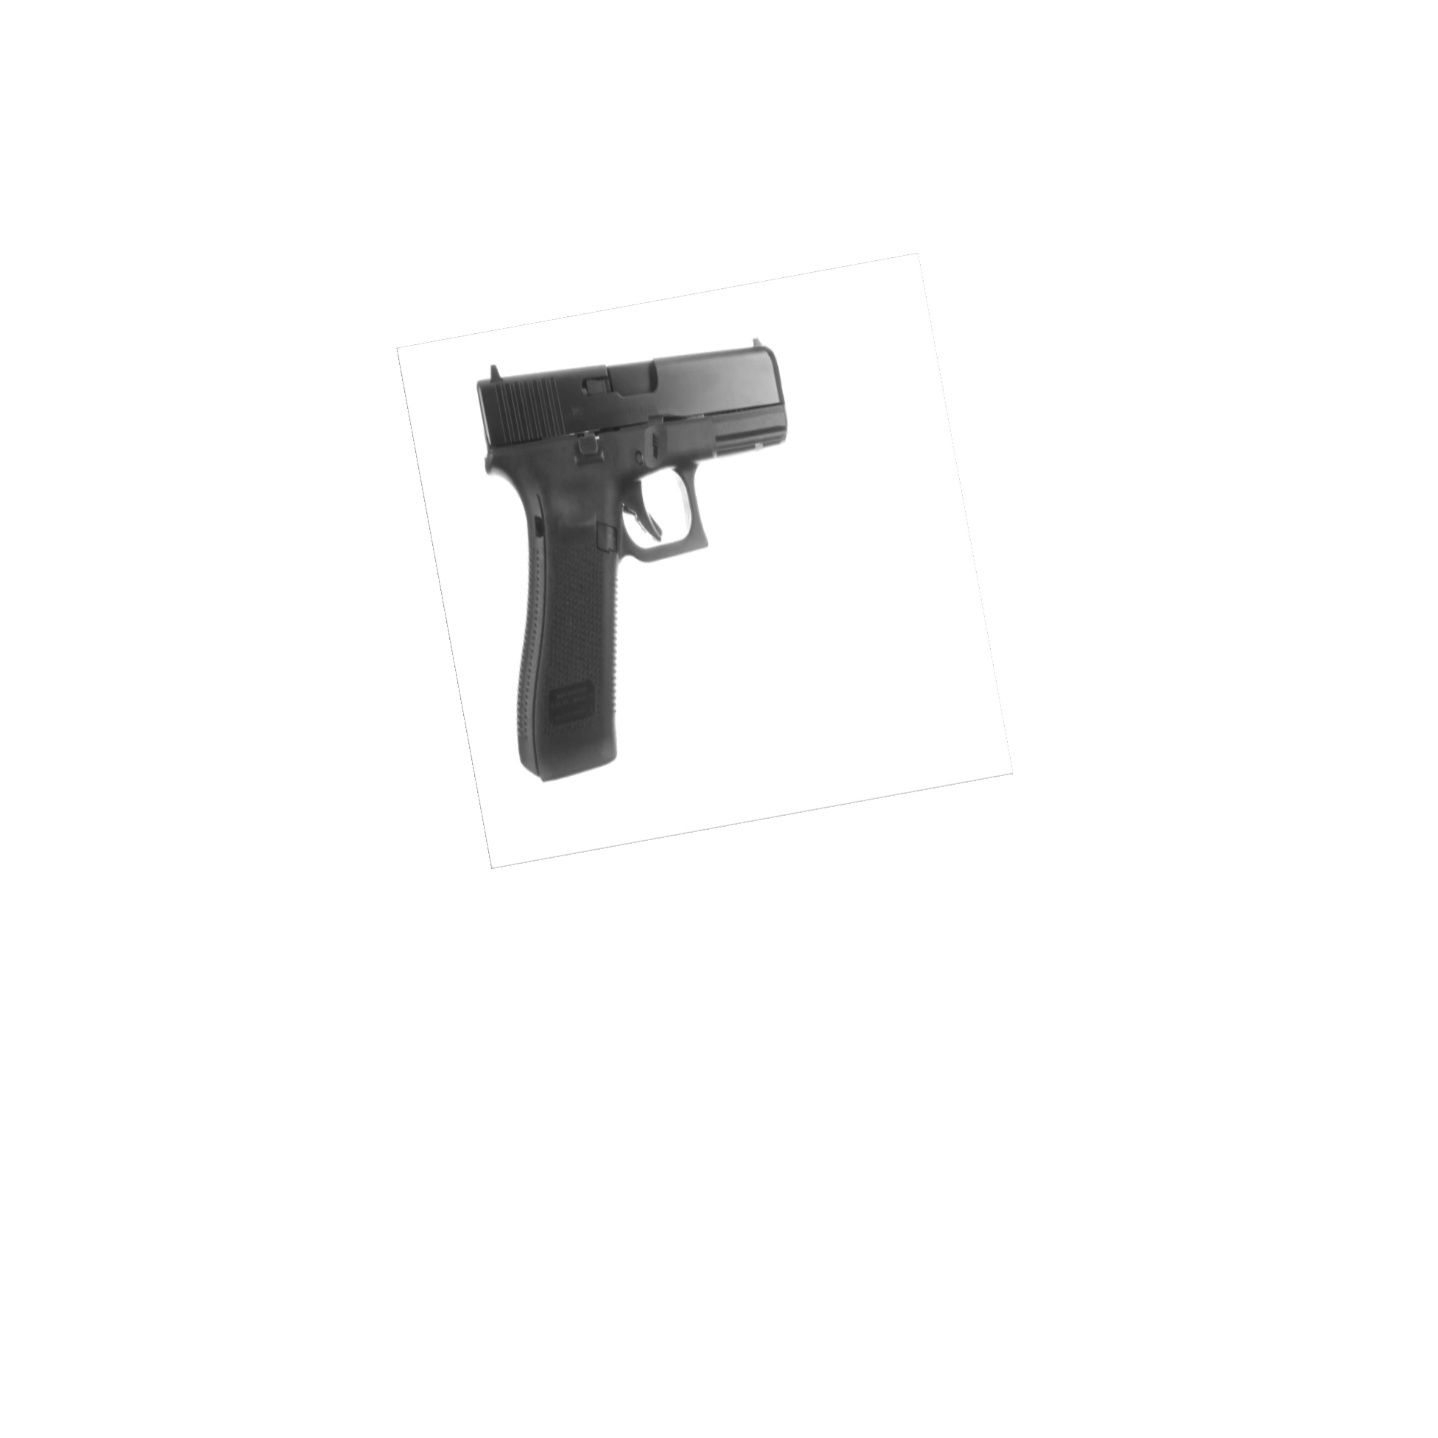gun: (477, 338, 789, 784)
